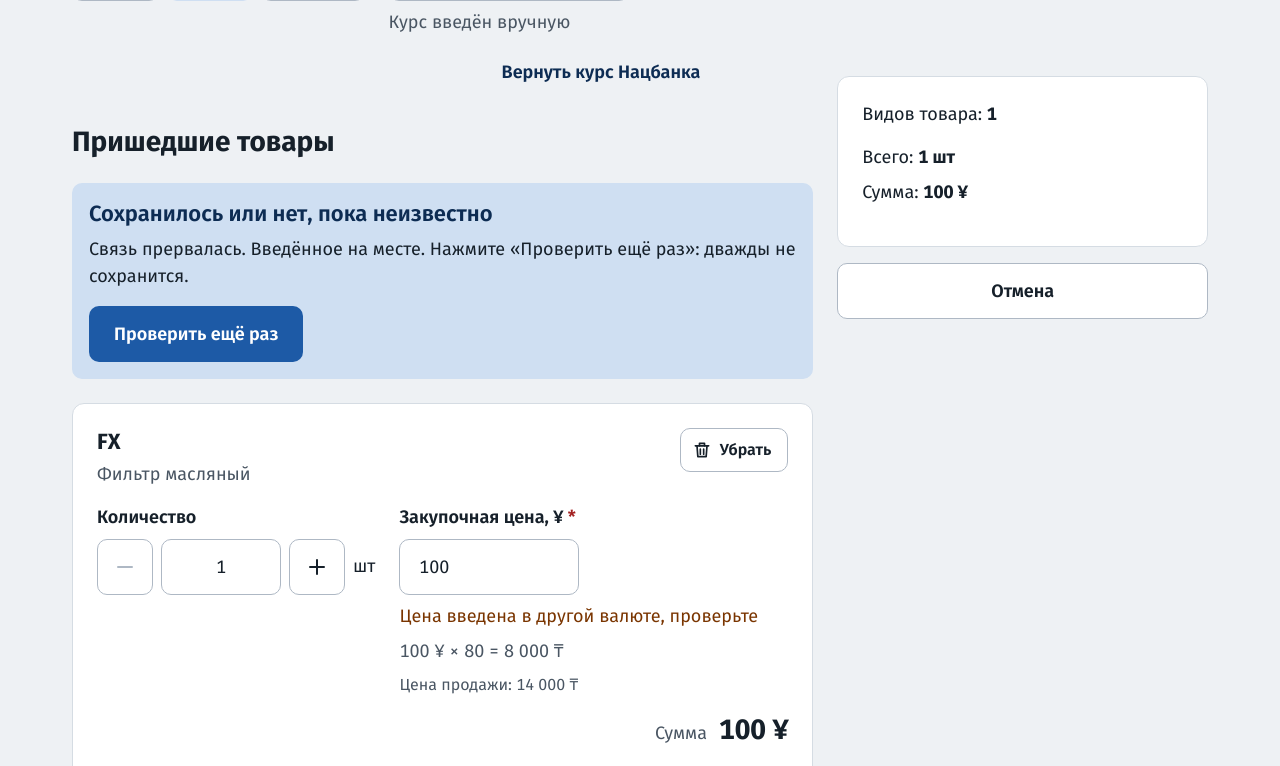
Test case: explicitly restoring nbk works while the result is unknown
(page scrolled)
Click the button "Вернуть курс Нацбанка" at (601, 72), box [389, 44, 813, 100]
(page scrolled)
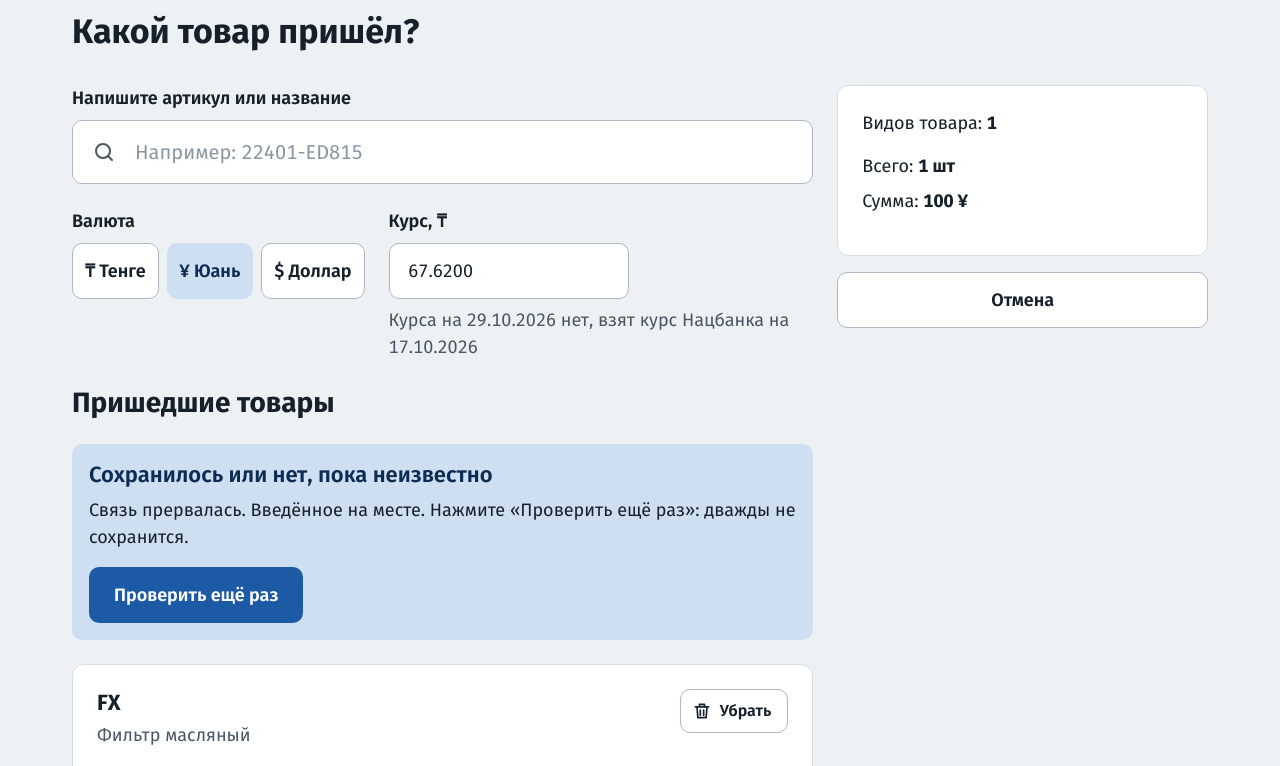
Now the field labelled "Курс, ₸" holds "67.6200", box [389, 243, 629, 299]
